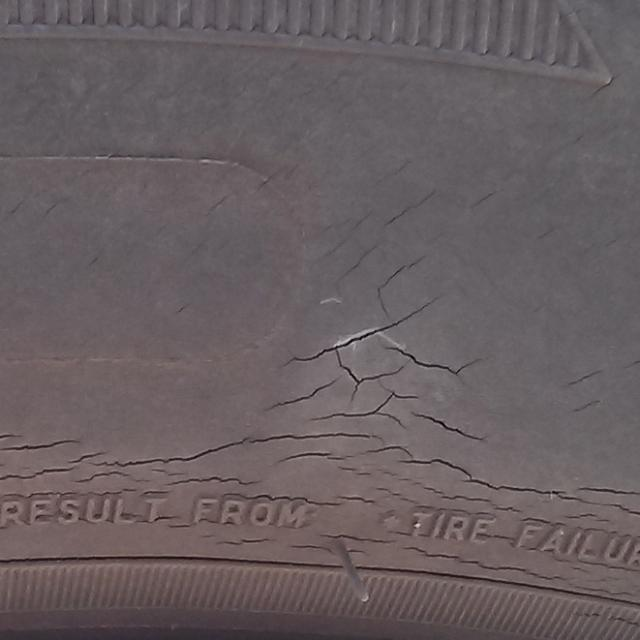Cracks: (0, 134, 640, 626)
